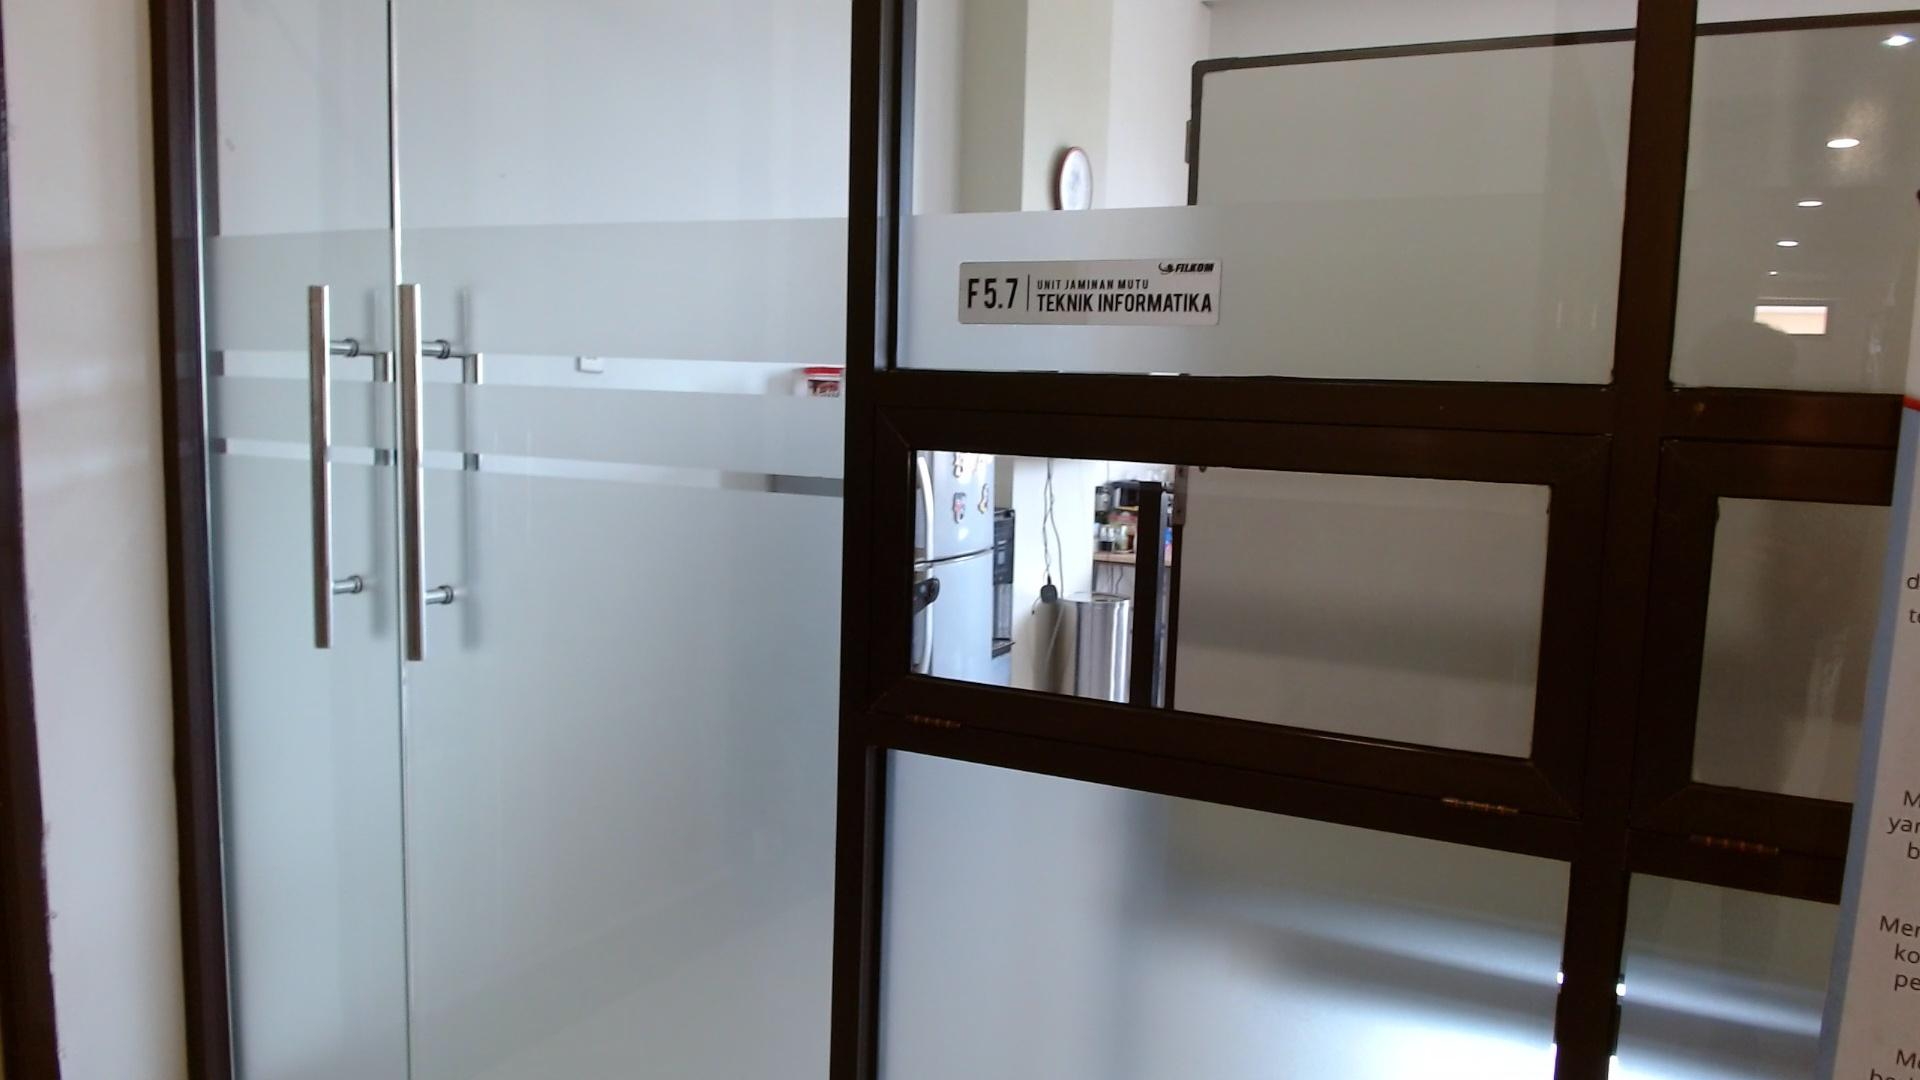plate: (956, 258, 1222, 327)
